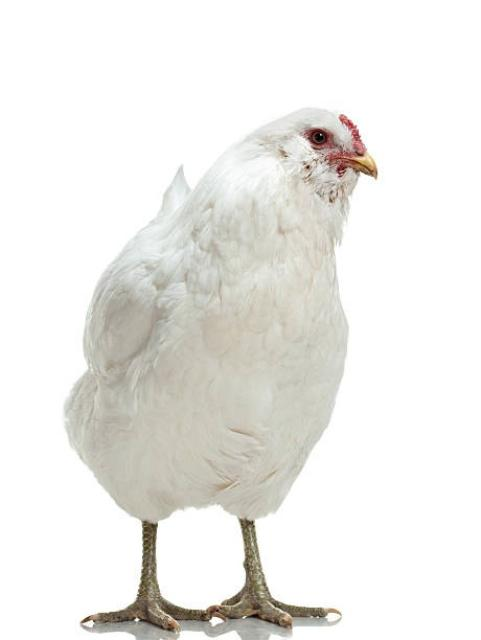Chicken: (63, 104, 381, 629)
